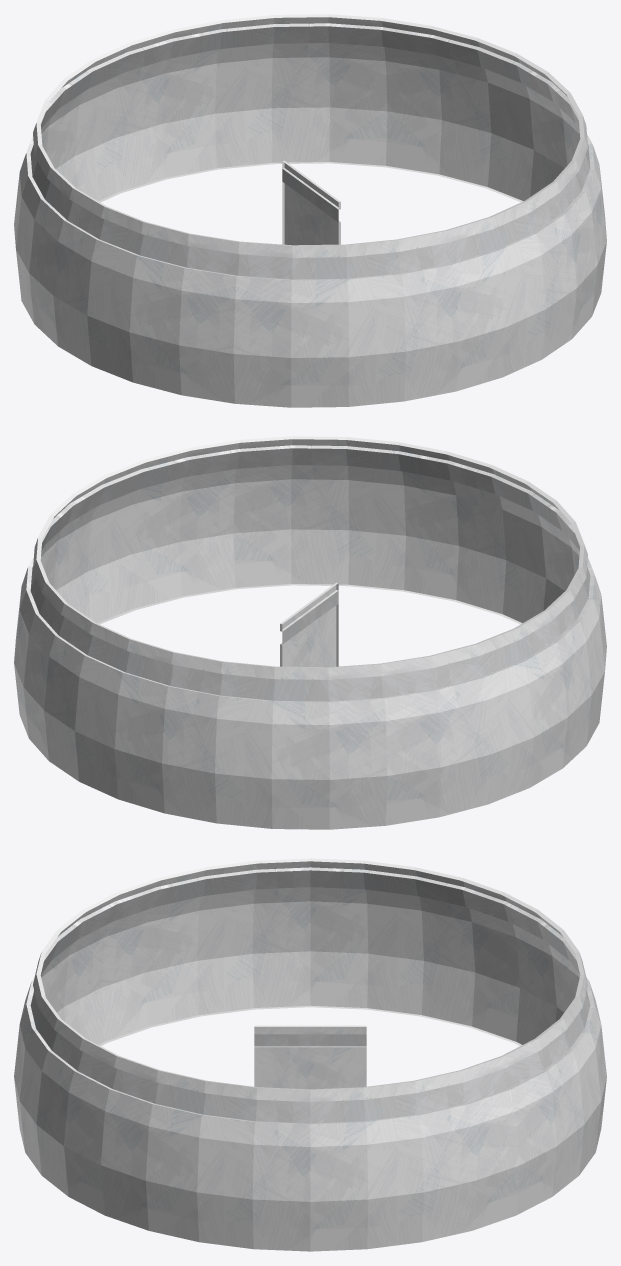
Rendered from Round-Wall-Segment_white.fbx.
3 views of the same model, one above another, from view 1: azimuth 30°, elevation 25°; view 2: azimuth 150°, elevation 25°; view 3: azimuth 270°, elevation 25° (orthographic).
Visible parts, largest first — view 1: Sphere, Plane; view 2: Sphere, Plane; view 3: Sphere, Plane.
Boxes of the visible parts, bbox=[...] form: Sphere: bbox=[14, 14, 606, 407]; Plane: bbox=[282, 160, 340, 245]; Sphere: bbox=[14, 436, 606, 829]; Plane: bbox=[280, 582, 338, 667]; Sphere: bbox=[14, 858, 606, 1251]; Plane: bbox=[254, 1025, 366, 1089].
Bounding box in the file's own units: 1056 × 304 × 1056.
